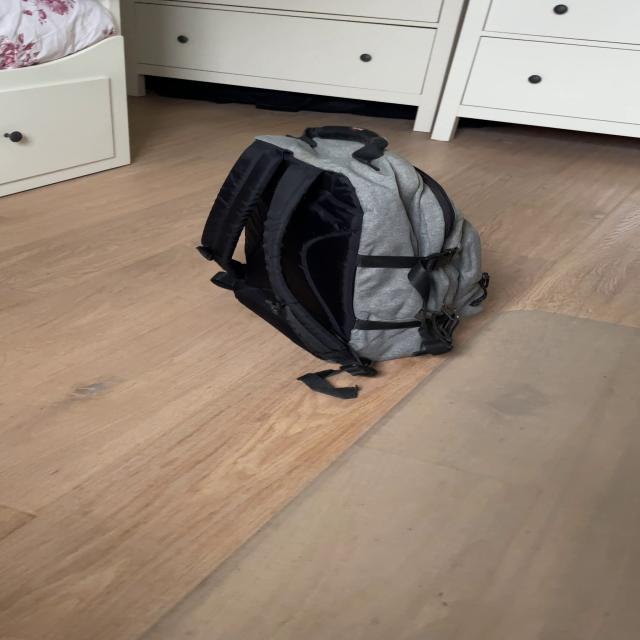backpack: (187, 111, 498, 380)
